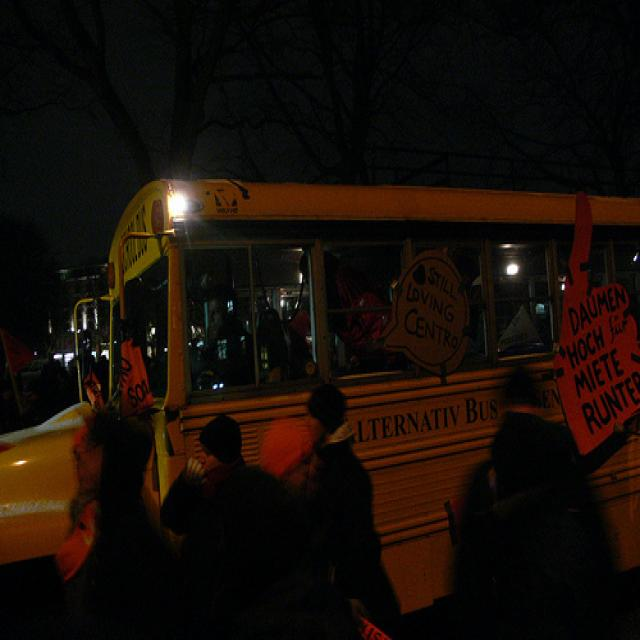Bus: (0, 176, 640, 597)
People: (436, 291, 639, 640), (61, 363, 162, 640), (301, 346, 385, 636), (255, 393, 325, 615), (175, 403, 240, 536), (188, 264, 240, 371)
